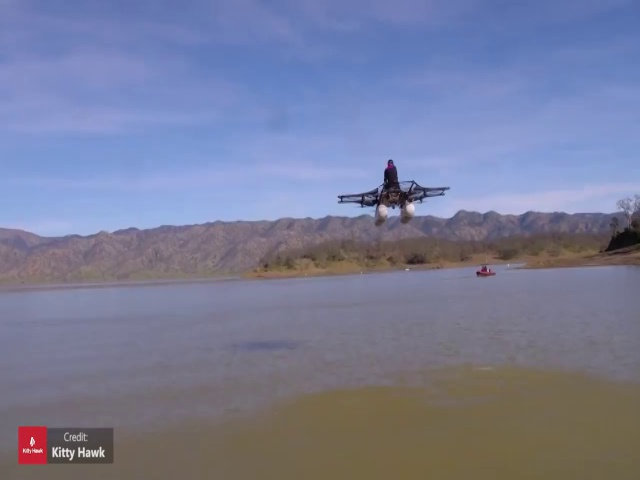drone: (337, 179, 452, 224)
